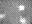person: (1, 13, 8, 18), (20, 6, 25, 12), (20, 19, 27, 23)
